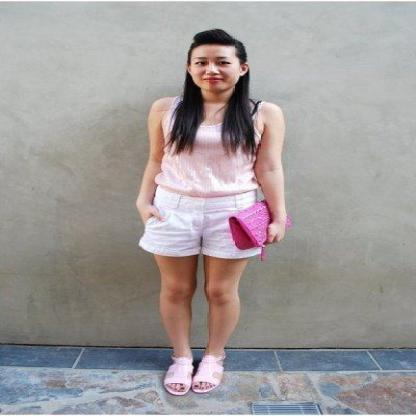bag: (229, 200, 286, 250)
shirt: (155, 122, 257, 224)
shoe: (168, 355, 238, 390)
shorts: (139, 204, 260, 258)
